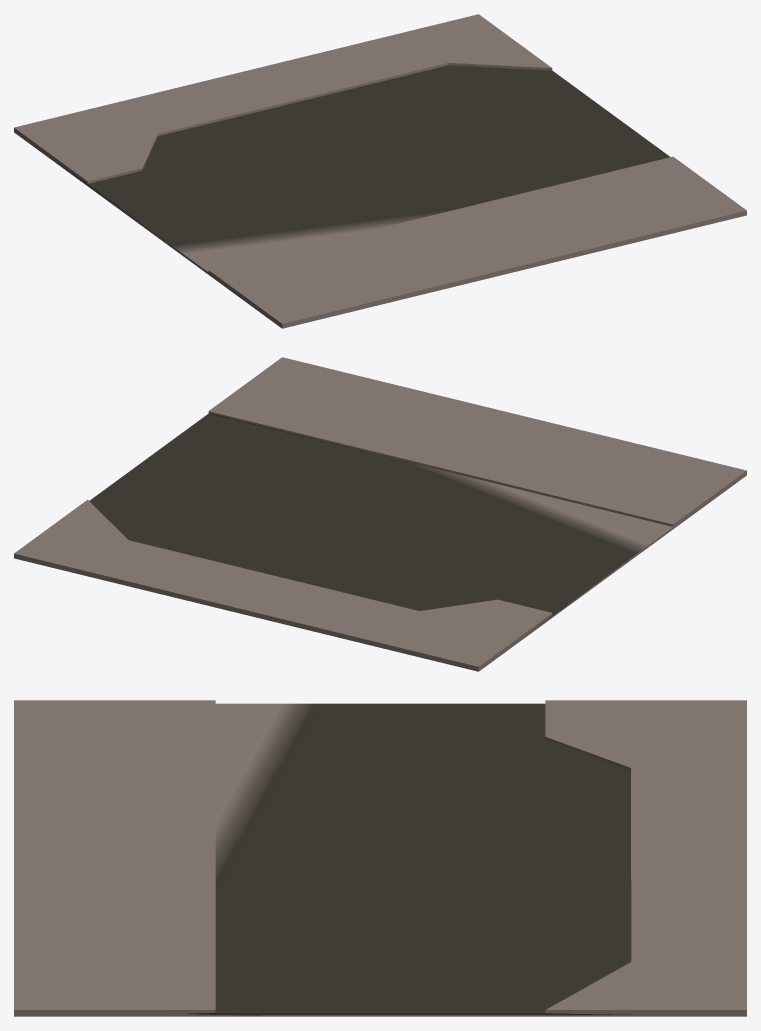
File: Env_1lane_Stop_col.fbx
3 renders of one model, top to bottom at view 1: azimuth 30°, elevation 25°; view 2: azimuth 150°, elevation 25°; view 3: azimuth 270°, elevation 25°, orthographic. The views are drawn at different scales.
Visible parts, largest first — view 1: Env_1lane_Stop_col; view 2: Env_1lane_Stop_col; view 3: Env_1lane_Stop_col.
Boxes of the visible parts, bbox=[...] form: Env_1lane_Stop_col: bbox=[14, 14, 746, 328]; Env_1lane_Stop_col: bbox=[14, 357, 746, 671]; Env_1lane_Stop_col: bbox=[14, 700, 746, 1016].
Size of the model in its own units: 2000 by 20 by 2000.
